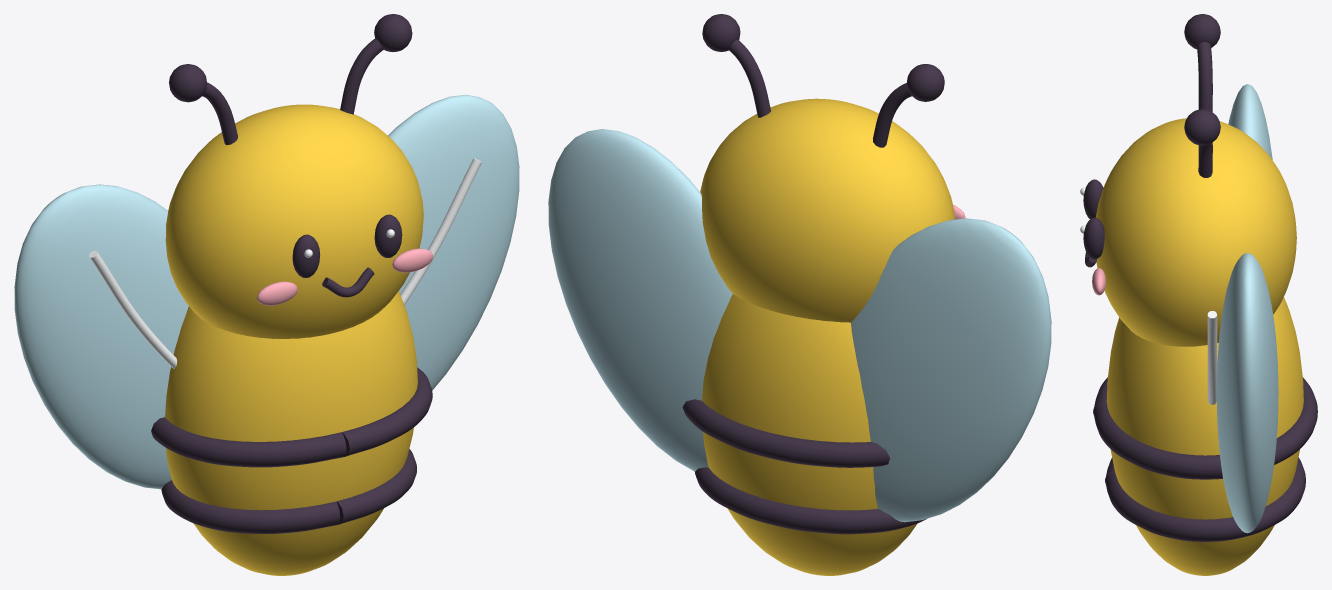
The model's file is bee.glb.
3 renders of one model, left to right at view 1: azimuth 30°, elevation 25°; view 2: azimuth 150°, elevation 25°; view 3: azimuth 270°, elevation 25°, orthographic. The views are drawn at different scales.
Parts seen in each view (by area): view 1: CMP_HD_Garden_Bee_CMP_HD_yellow, CMP_HD_Garden_Bee_CMP_HD_blue, CMP_HD_Garden_Bee_CMP_HD_dark, CMP_HD_Garden_Bee_CMP_HD_white, CMP_HD_Garden_Bee_CMP_HD_blush; view 2: CMP_HD_Garden_Bee_CMP_HD_blue, CMP_HD_Garden_Bee_CMP_HD_yellow, CMP_HD_Garden_Bee_CMP_HD_dark; view 3: CMP_HD_Garden_Bee_CMP_HD_yellow, CMP_HD_Garden_Bee_CMP_HD_blue, CMP_HD_Garden_Bee_CMP_HD_dark, CMP_HD_Garden_Bee_CMP_HD_white, CMP_HD_Garden_Bee_CMP_HD_blush.
Part boxes in pixels (bbox=[...]): CMP_HD_Garden_Bee_CMP_HD_yellow: bbox=[165, 104, 423, 575]; CMP_HD_Garden_Bee_CMP_HD_blue: bbox=[14, 94, 519, 489]; CMP_HD_Garden_Bee_CMP_HD_dark: bbox=[151, 14, 432, 533]; CMP_HD_Garden_Bee_CMP_HD_white: bbox=[89, 158, 481, 368]; CMP_HD_Garden_Bee_CMP_HD_blush: bbox=[257, 248, 432, 305]; CMP_HD_Garden_Bee_CMP_HD_blue: bbox=[548, 129, 1051, 522]; CMP_HD_Garden_Bee_CMP_HD_yellow: bbox=[700, 98, 954, 575]; CMP_HD_Garden_Bee_CMP_HD_dark: bbox=[682, 14, 944, 534]; CMP_HD_Garden_Bee_CMP_HD_yellow: bbox=[1095, 118, 1303, 575]; CMP_HD_Garden_Bee_CMP_HD_blue: bbox=[1216, 84, 1278, 533]; CMP_HD_Garden_Bee_CMP_HD_dark: bbox=[1083, 14, 1317, 541]; CMP_HD_Garden_Bee_CMP_HD_white: bbox=[1080, 187, 1217, 404]; CMP_HD_Garden_Bee_CMP_HD_blush: bbox=[1092, 268, 1105, 295].
Size of the model in its own units: 1.96 by 1.97 by 0.8438.
